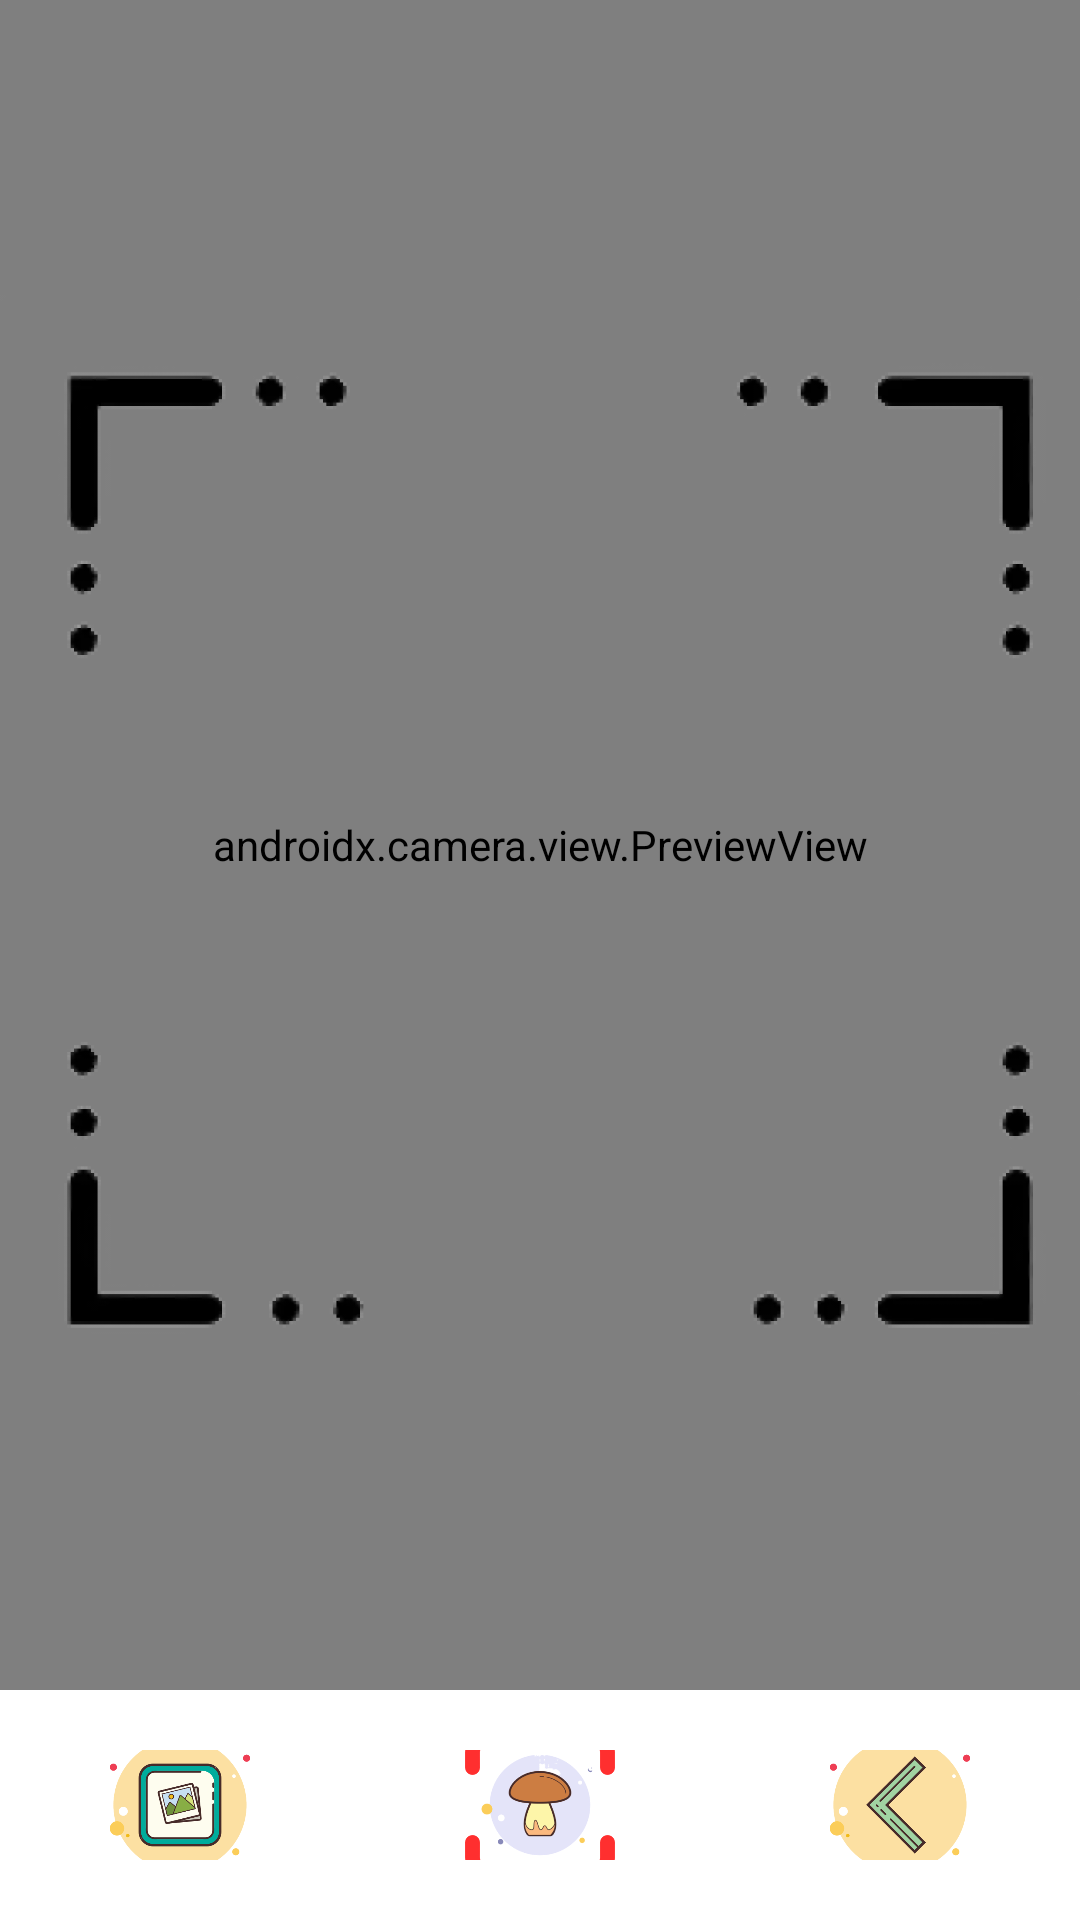

Icon click points for this 1080x1920 phone screenshot, format point (x, y):
import image: point (180, 1805)
kembali: point (900, 1805)
